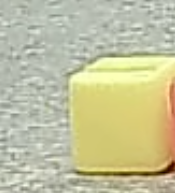yellow_cube: (67, 52, 175, 176)
